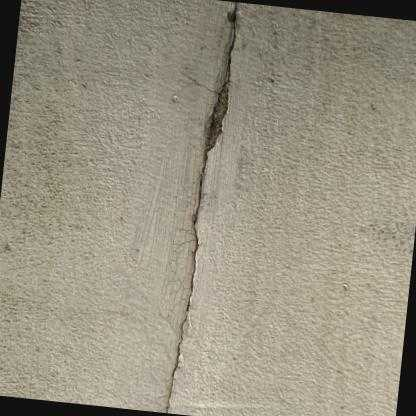crack: (165, 2, 237, 413)
